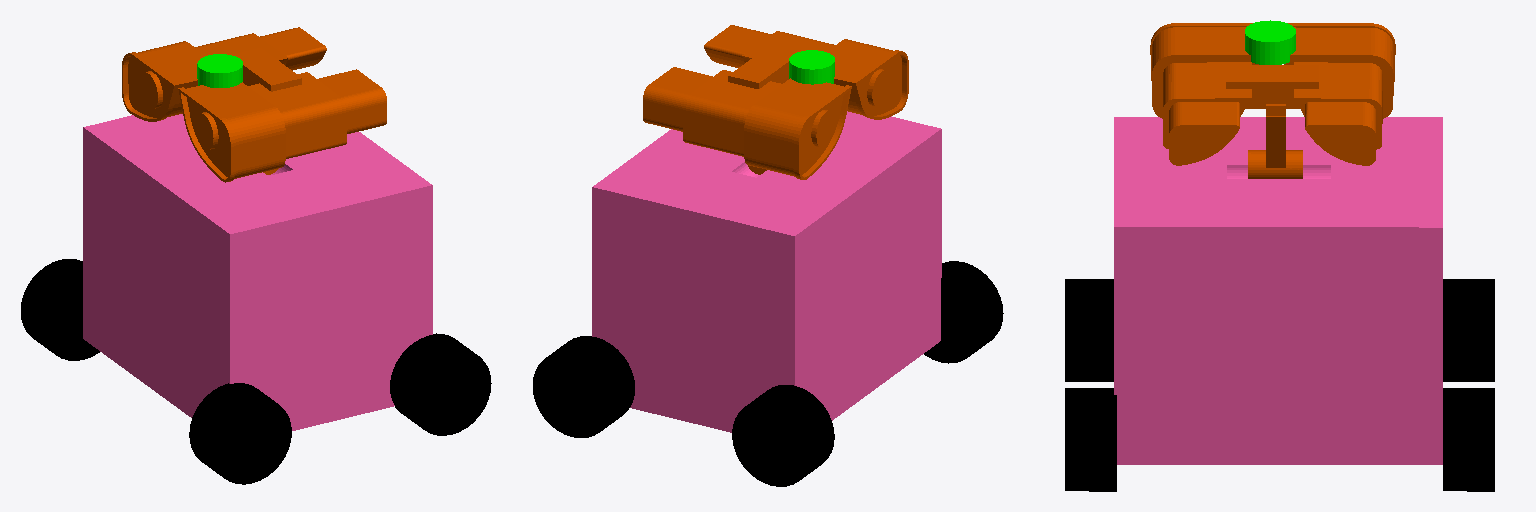
URDF robot description (ugv_robot):
<?xml version="1.0"?>
<robot name="ugv_robot">
  <!-- Thân -->
  <link name="base_link">
    <visual>
      <geometry>
        <mesh filename="package://robile_robot/models/body3.stl"/>
      </geometry>
      <material name="pink">
        <color rgba="1 0.4 0.7 1"/>
      </material>
      <origin xyz="-0.3 0.5 0.1" rpy="1.57 0 0"/>
    </visual>
    <collision>
      <geometry>
        <mesh filename="package://robile_robot/models/body3.stl"/>
      </geometry>
    </collision>
    <inertial>
      <mass value="2"/>
      <inertia ixx="0.4465" ixy="0" ixz="0" iyy="0.3468" iyz="0.0" izz="0.4026"/>
    </inertial>
  </link>

  <!-- Bánh xe -->
  <link name="wheel_ph_trc">
    <visual>
      <geometry>
        <cylinder radius="0.2" length="0.2"/>
      </geometry>
      <material name="black">
        <color rgba="0 0 0 1"/>
      </material>
    </visual>
    <collision>
      <geometry>
        <cylinder radius="0.2" length="0.2"/>
      </geometry>
    </collision>
    <inertial>
      <mass value="1"/>
      <inertia ixx="0.013333" ixy="0.0" ixz="0.0" iyy="0.013333" iyz="0.0" izz="0.02"/>
    </inertial>
  </link>

  <link name="wheel_tr_trc">
    <visual>
      <geometry>
        <cylinder radius="0.2" length="0.2"/>
      </geometry>
      <material name="black">
        <color rgba="0 0 0 1"/>
      </material>
    </visual>
    <collision>
      <geometry>
        <cylinder radius="0.2" length="0.2"/>
      </geometry>
    </collision>
    <inertial>
      <mass value="1"/>
      <inertia ixx="0.013333" ixy="0.0" ixz="0.0" iyy="0.013333" iyz="0.0" izz="0.02"/>
    </inertial>
  </link>

  <link name="wheel_tr_s">
    <visual>
      <geometry>
        <cylinder radius="0.2" length="0.2"/>
      </geometry>
      <material name="black">
        <color rgba="0 0 0 1"/>
      </material>
    </visual>
    <collision>
      <geometry>
        <cylinder radius="0.2" length="0.2"/>
      </geometry>
    </collision>
    <inertial>
      <mass value="1"/>
      <inertia ixx="0.013333" ixy="0.0" ixz="0.0" iyy="0.013333" iyz="0.0" izz="0.02"/>
    </inertial>
  </link>

  <link name="wheel_ph_s">
    <visual>
      <geometry>
        <cylinder radius="0.2" length="0.2"/>
      </geometry>
      <material name="black">
        <color rgba="0 0 0 1"/>
      </material>
    </visual>
    <collision>
      <geometry>
        <cylinder radius="0.2" length="0.2"/>
      </geometry>
    </collision>
    <inertial>
      <mass value="1"/>
      <inertia ixx="0.013333" ixy="0.0" ixz="0.0" iyy="0.013333" iyz="0.0" izz="0.02"/>
    </inertial>
  </link>

  <gazebo>
    <plugin name="diff_drive" filename="libgazebo_ros_diff_drive.so">
    <ros>
  <namespace>/</namespace>
</ros>
        <!-- Joint Names -->
        <leftJoint>joint_wheel_tr_trc</leftJoint>
        <rightJoint>joint_wheel_ph_trc</rightJoint>
        <!-- <leftJoint>joint_wheel_tr_s</leftJoint>
        <rightJoint>joint_wheel_ph_s</rightJoint> -->

        <!-- Wheel Properties -->
        <wheelSeparation>0.25</wheelSeparation>
        <wheelDiameter>0.4</wheelDiameter>

        <!-- Control Topic -->

        <commandTopic>/cmd_vel</commandTopic>

        <!-- Odometry and Frames -->
        <odometryTopic>/odom</odometryTopic>
        <odometryFrame>odom</odometryFrame>
        <odometrySource>world</odometrySource>
        <robotBaseFrame>base_link</robotBaseFrame>

        <!-- Publish Options -->
        <publishOdomTF>true</publishOdomTF>
        <publishWheelTF>true</publishWheelTF>
        <publishTf>true</publishTf>
        <publishWheelJointState>true</publishWheelJointState>
        <!-- Wheel Dynamics -->
        <wheelAcceleration>200.0</wheelAcceleration>
        <wheelTorque>200.0</wheelTorque>
        <updateRate>100</updateRate>

        <rosDebugLevel>na</rosDebugLevel>
        
    </plugin>

</gazebo>

  <!-- Khớp nối bánh xe -->
  <joint name="joint_wheel_tr_trc" type="continuous">
    <parent link="base_link"/>
    <child link="wheel_tr_trc"/>
    <origin xyz="-0.3 -0.865 0.2" rpy="1.57 0 0"/>
    <axis xyz="0 0 1"/>
  </joint>

  <joint name="joint_wheel_ph_trc" type="continuous">
    <parent link="base_link"/>
    <child link="wheel_ph_trc"/>
    <origin xyz="-0.3 0.6 0.2" rpy="1.57 0 0"/>
    <axis xyz="0 0 1"/>
  </joint>

  <joint name="joint_wheel_ph_s" type="continuous">
    <parent link="base_link"/>
    <child link="wheel_ph_s"/>
    <origin xyz="0.7 0.6 0.2" rpy="1.57 0 0"/>
    <axis xyz="0 0 1"/>
  </joint>

  <joint name="joint_wheel_tr_s" type="continuous">
    <parent link="base_link"/>
    <child link="wheel_tr_s"/>
    <origin xyz="0.7 -0.865 0.2" rpy="1.57 0 0"/>
    <axis xyz="0 0 1"/>
  </joint>

  <!-- <camera> -->

<!-- Base Camera -->
<link name="camera_link">
        <visual>
            <geometry>
                <mesh filename="package://robile_robot/models/eye.stl" scale="0.5 0.5 0.5"/>
            </geometry>
            <origin xyz="-1.3 -0.8 -1.55" rpy="1.57 0 1.57"/>
        </visual>
        <inertial>

            <mass value="0.1"/>
            <inertia ixx="0.00004167" ixy="0.000" ixz="0.00" iyy="0.00007083" iyz="0.0" izz="0.00010417"/>

        </inertial>
    </link>
    <!-- Camera Joint -->
    <joint name="camera_joint" type="fixed">
        <parent link="base_link"/>
        <child link="camera_link"/>
        <origin xyz="-0.15 -0.40 1.45" rpy="0 0 3.14"/>
    </joint>
  <!-- Camera Work -->
    <gazebo reference="camera_link">
        <material>Gazebo/Red</material>
        <sensor name="camera" type="camera">
            <pose> 1.25 -0.4 2 0 0 0 </pose>
            <visualize>true</visualize>
            <update_rate>10</update_rate>
            <camera>
                <horizontal_fov>1.089</horizontal_fov>
                <image>
                    <format>R8G8B8</format>
                    <width>640</width>
                    <height>480</height>
                </image>
                <clip>
                    <near>0.05</near>
                    <far>8.0</far>
                </clip>
            </camera>
            <plugin name="camera_controller" filename="libgazebo_ros_camera.so">
                <frame_name>camera_link_optical</frame_name>
            </plugin>
        </sensor>
    </gazebo>

  <!-- Base Sensor -->
  <link name="base_scan">
    <visual>
      <origin xyz="0 0 0.0" rpy="0 0 0"/>
      <geometry>
        <cylinder length="0.1" radius="0.1"/>
      </geometry>
     <material name="green">
        <color rgba="0.0 1 0.0 1.0"/>
     </material>
    </visual>
    <collision>
      <origin xyz="0 0 0.3" rpy="0 0 0"/>
      <geometry>
        <cylinder length="0.1" radius="0.1"/>
      </geometry>
    </collision>
    <inertial>
      <mass value="0.1" />
      <origin xyz="0 0 0" />
      <inertia ixx="0.0003333" ixy="0.0" ixz="0.0"
               iyy="0.0003333" iyz="0.0"
               izz="0.0005" />
    </inertial>
  </link>
  
  <!-- Sensor Joint -->
  <joint name="scan_joint" type="fixed">
    <parent link="base_link"/>
    <child link="base_scan"/>
    <origin xyz="0 -0.17 1.57" rpy="0 0 0"/>
  </joint>

<!-- Sensor Work -->
<gazebo reference="base_scan">
    <material>Gazebo/FlatBlack</material>
    <sensor type="ray" name="lds_lfcd_sensor">
      <pose>0 0 0 0 0 0</pose>
      <visualize>true</visualize>
      <update_rate>5</update_rate>
      <ray>
        <scan>
          <horizontal>
            <samples>360</samples>
            <resolution>1</resolution>
            <min_angle>0</min_angle>
            <max_angle>6.28319</max_angle>
          </horizontal>
        </scan>
        <range>
          <min>0.120</min>
          <max>3.5</max>
          <resolution>0.015</resolution>
        </range>
        <noise>
          <type>gaussian</type>
          <mean>0.0</mean>
          <stddev>0.01</stddev>
        </noise>
      </ray>
      <plugin name="gazebo_ros_lds_lfcd_controller" filename="libgazebo_ros_laser.so">
        <topicName>scan</topicName>
        <frameName>base_scan</frameName>
      </plugin>
    </sensor>
  </gazebo>
 </robot>

--- What the picture shows (computed from the rendered views, not written in the file) ---
Views: 3 orthographic renders of the robot side by side, from view 1: azimuth 30°, elevation 25°; view 2: azimuth 150°, elevation 25°; view 3: azimuth 270°, elevation 25°.
Robot: ugv_robot — 7 links, 6 joints (4 continuous, 2 fixed); root link base_link; default pose: every joint at zero.
Visible links, largest first — view 1: base_link, camera_link, wheel_tr_trc, wheel_tr_s, wheel_ph_trc, base_scan; view 2: base_link, camera_link, wheel_ph_trc, wheel_ph_s, wheel_tr_trc, base_scan; view 3: base_link, camera_link, wheel_ph_s, wheel_tr_s, wheel_ph_trc, wheel_tr_trc, base_scan.
Link boxes in pixels (bbox=[...]): base_link: bbox=[83, 114, 432, 430]; camera_link: bbox=[122, 27, 386, 182]; wheel_tr_trc: bbox=[189, 383, 291, 484]; wheel_tr_s: bbox=[390, 333, 491, 435]; wheel_ph_trc: bbox=[21, 259, 99, 360]; base_scan: bbox=[197, 54, 242, 87]; base_link: bbox=[592, 111, 941, 432]; camera_link: bbox=[643, 25, 908, 179]; wheel_ph_trc: bbox=[732, 385, 834, 486]; wheel_ph_s: bbox=[533, 336, 634, 437]; wheel_tr_trc: bbox=[924, 261, 1003, 363]; base_scan: bbox=[789, 50, 834, 84]; base_link: bbox=[1114, 117, 1442, 464]; camera_link: bbox=[1150, 23, 1395, 178]; wheel_ph_s: bbox=[1443, 388, 1494, 491]; wheel_tr_s: bbox=[1065, 388, 1116, 491]; wheel_ph_trc: bbox=[1443, 279, 1494, 381]; wheel_tr_trc: bbox=[1065, 279, 1113, 381]; base_scan: bbox=[1245, 20, 1295, 64].
Bounding box of the posed robot: 1.4 × 1.67 × 1.62 m (x, y, z).
Meshes: 2 distinct files referenced, 2 mesh visuals loaded (2 binary STL).
